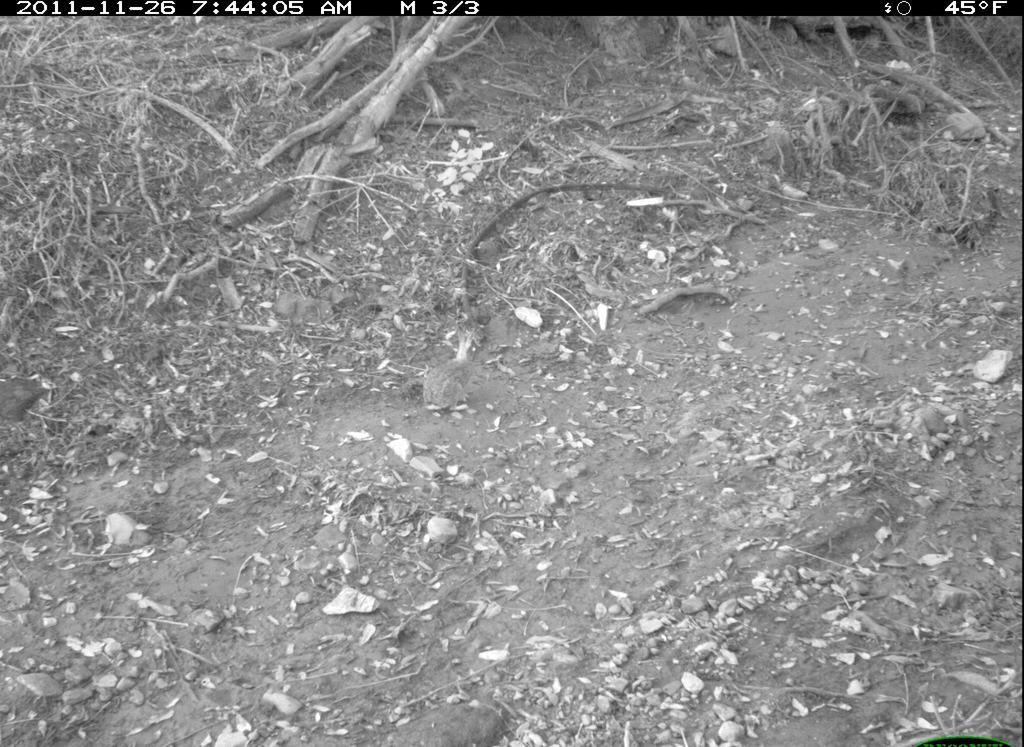rabbit: (423, 332, 486, 417)
